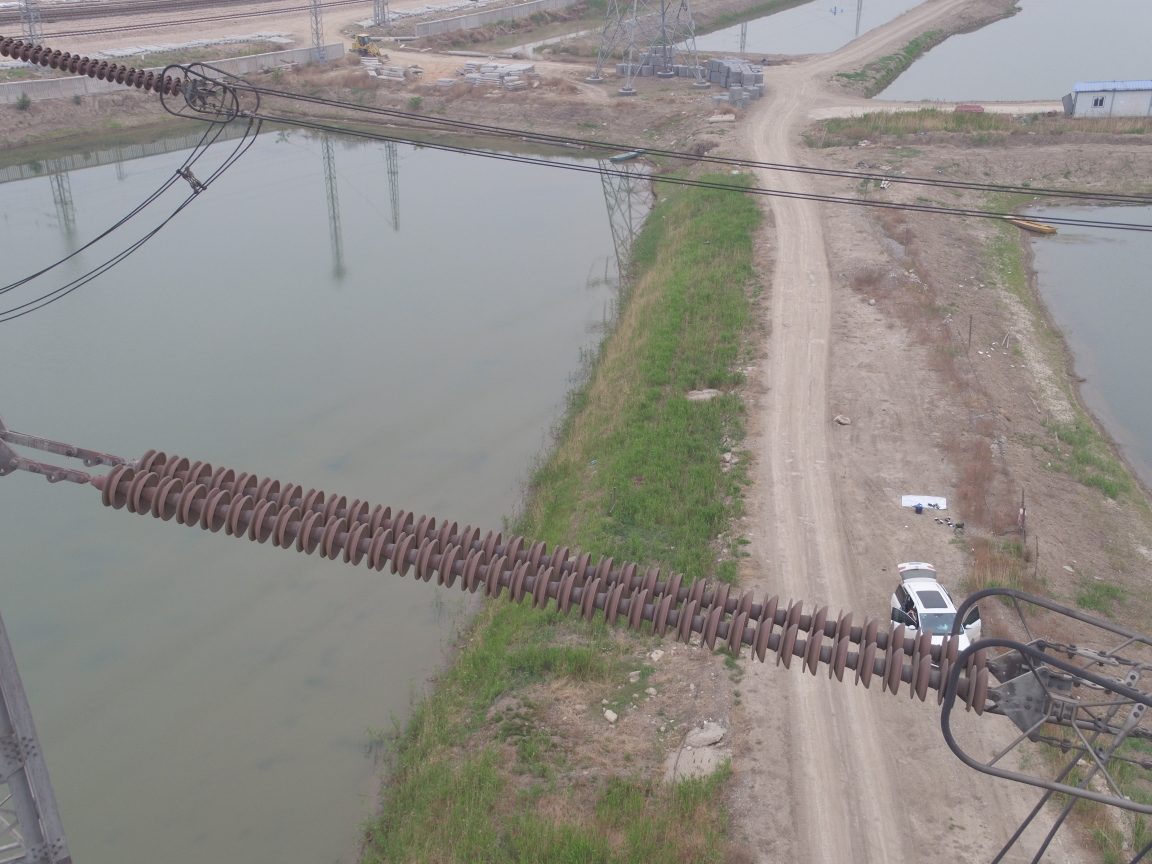insulator: (44, 440, 1015, 718), (1, 33, 186, 100)
